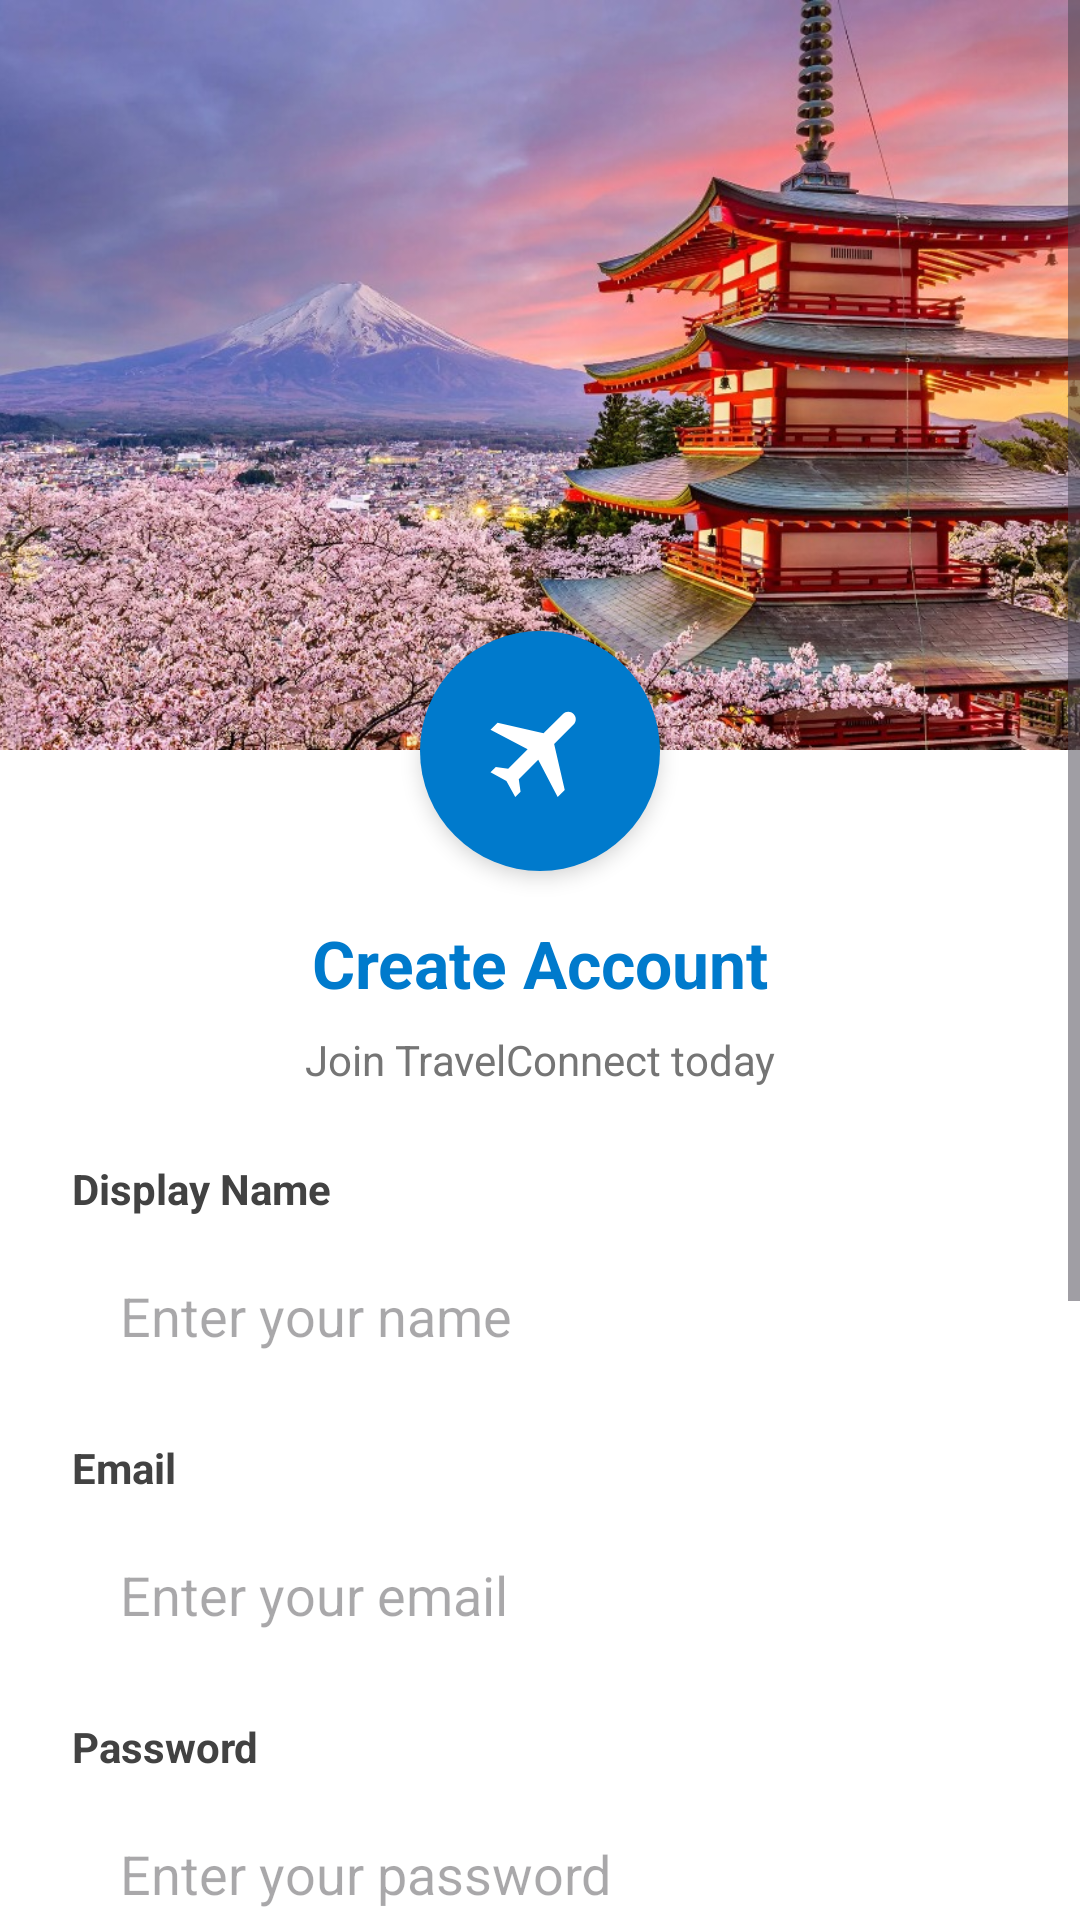

Where to tap for icons on this 1080px x 1920px app screen, as point (x, y):
airplane: point (540, 751)
